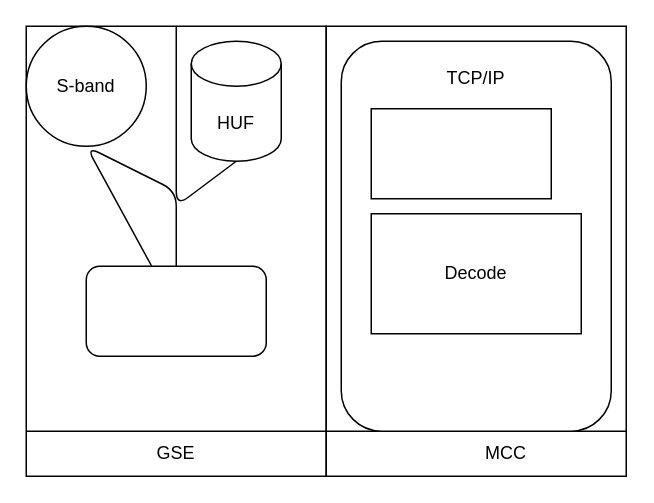
Image size: 654x503. Some labels were removed from this diagram. Each missing label, with the centre of its shape:
"ENcode" belongs at [460,153].
"HUF BOX" belongs at [175,310].
